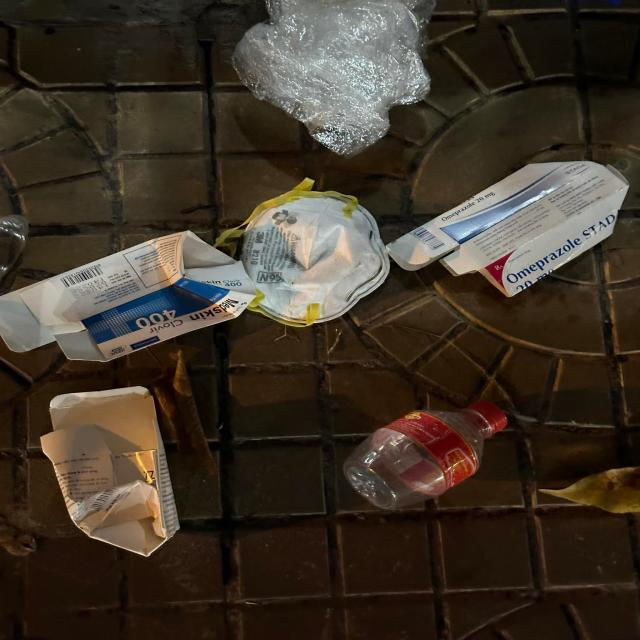bag: (232, 0, 438, 158)
bottle: (341, 398, 510, 510)
cardboard box: (0, 228, 257, 363), (384, 161, 629, 299), (39, 384, 182, 557)
mask: (212, 176, 392, 328)
